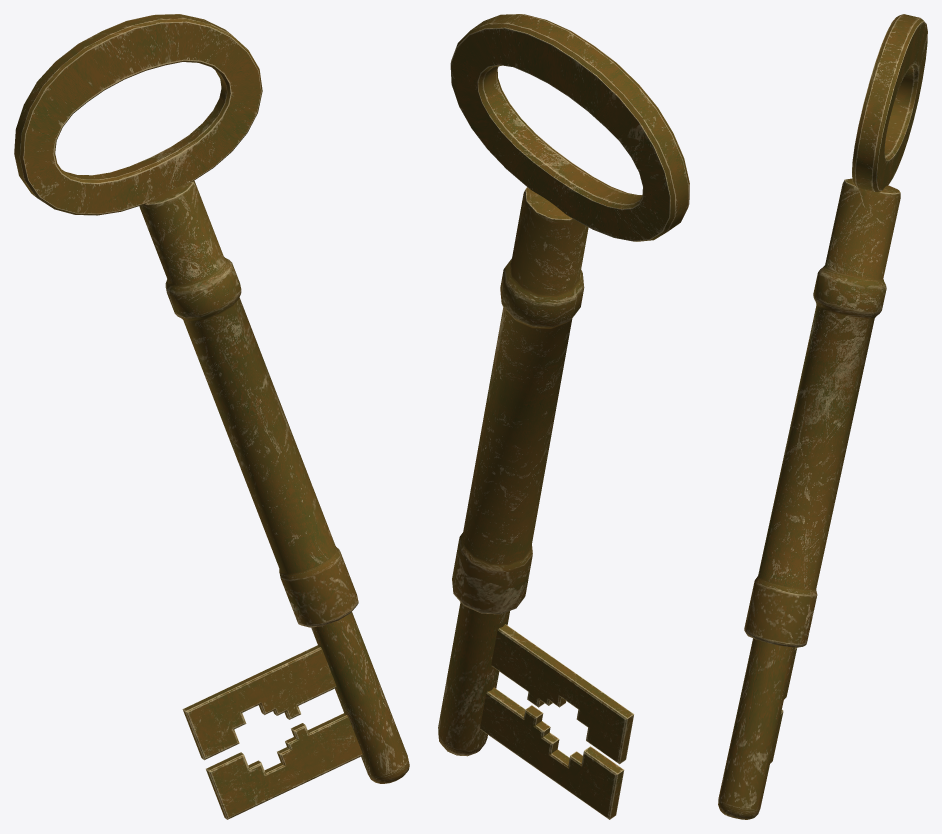
The model's file is key.fbx.
The picture shows the model from 3 angles, left to right: view 1: azimuth 30°, elevation 25°; view 2: azimuth 150°, elevation 25°; view 3: azimuth 270°, elevation 25°; orthographic projection. The views are drawn at different scales.
Parts seen in each view (by area): view 1: Key__0; view 2: Key__0; view 3: Key__0.
Boxes of the visible parts, bbox=[...] form: Key__0: bbox=[14, 14, 409, 819]; Key__0: bbox=[438, 14, 689, 819]; Key__0: bbox=[718, 14, 927, 819].
Size of the model in its own units: 28.36 by 67.42 by 17.55.
Materials: 1 (1 with a texture image).
